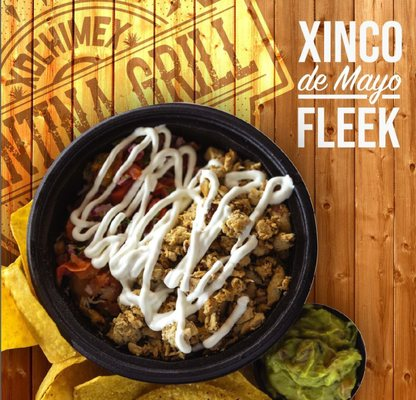sushi: (16, 103, 318, 390)
